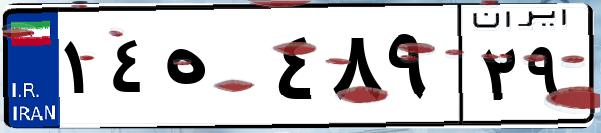1: (57, 26, 110, 100)
2: (475, 38, 525, 113)
4: (270, 28, 330, 110), (110, 28, 158, 98)
8: (330, 28, 385, 110)
9: (385, 28, 445, 110), (525, 38, 570, 115)
ه: (158, 20, 270, 120)
